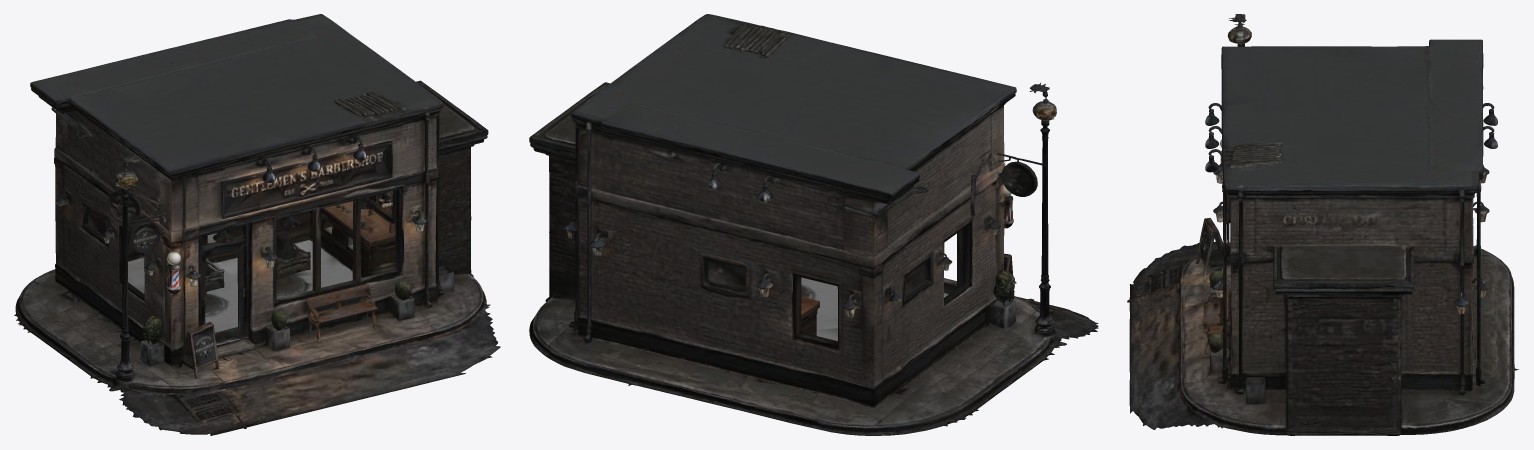
File: salon-main.glb
3 views of the same model, side by side, from view 1: azimuth 30°, elevation 25°; view 2: azimuth 150°, elevation 25°; view 3: azimuth 270°, elevation 25° (orthographic). The views are drawn at different scales.
Visible parts, largest first — view 1: tripo_node_2bcfadb0-9f4a-4f65-a452-4db22f8557ad; view 2: tripo_node_2bcfadb0-9f4a-4f65-a452-4db22f8557ad; view 3: tripo_node_2bcfadb0-9f4a-4f65-a452-4db22f8557ad.
Boxes of the visible parts, left/top/right/bottom form: tripo_node_2bcfadb0-9f4a-4f65-a452-4db22f8557ad: left=14, top=14, right=500, bottom=435; tripo_node_2bcfadb0-9f4a-4f65-a452-4db22f8557ad: left=529, top=14, right=1098, bottom=435; tripo_node_2bcfadb0-9f4a-4f65-a452-4db22f8557ad: left=1127, top=14, right=1518, bottom=435.
Size of the model in its own units: 0.9793 by 0.5754 by 0.8047.
Materials: 1 (1 with a texture image).
